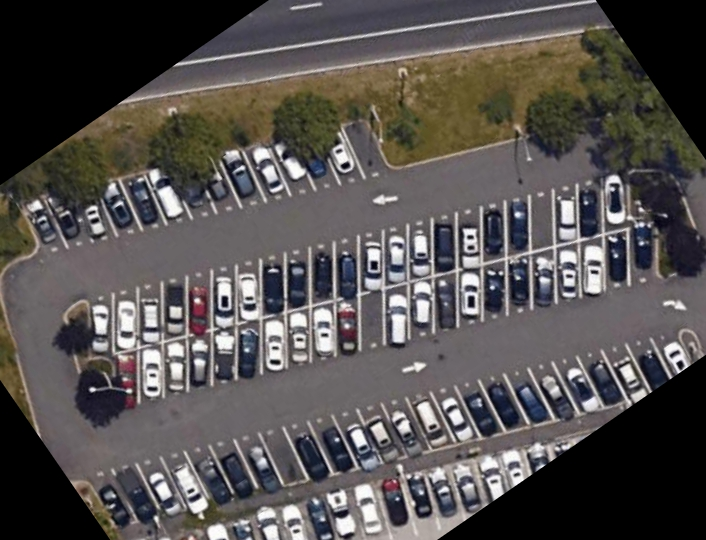parkingspot: (85, 164, 659, 422), (78, 328, 694, 534), (13, 116, 396, 257), (135, 427, 600, 540)
